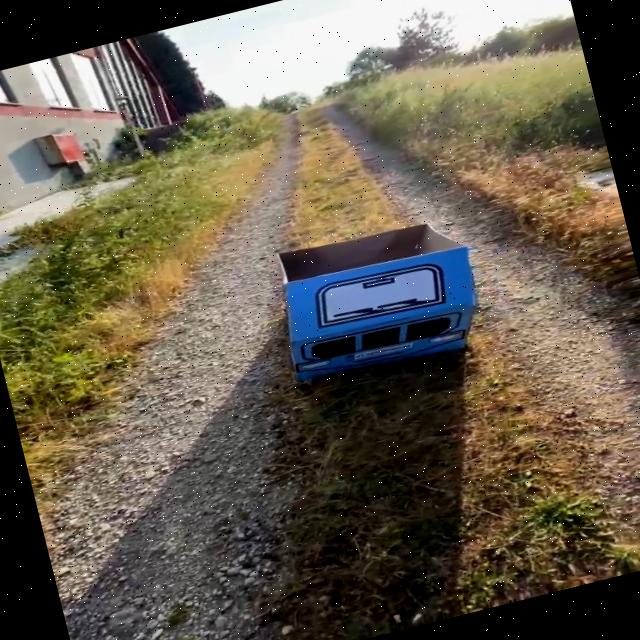blue_car: (231, 189, 518, 412)
